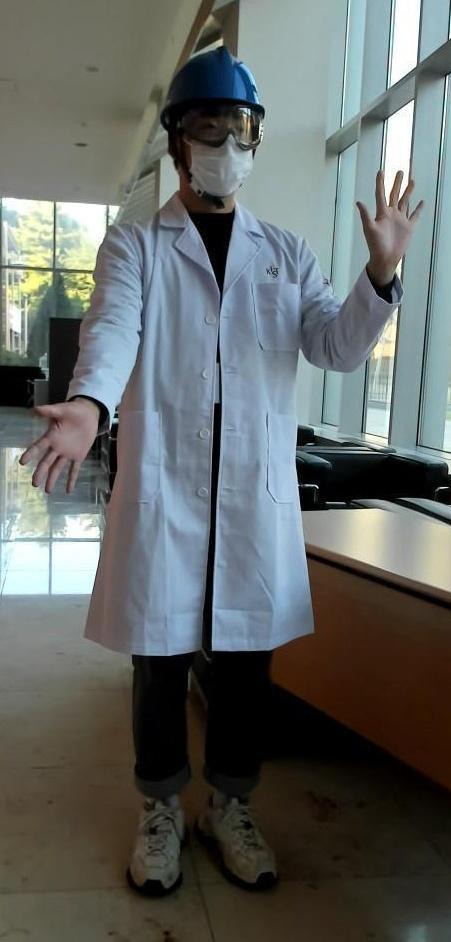lab_coat: (104, 234, 313, 647)
